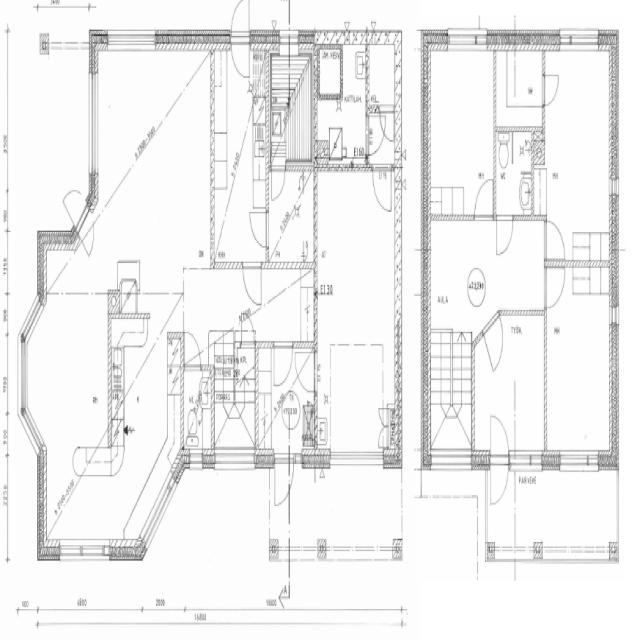door: (487, 408, 510, 511), (268, 158, 296, 238), (229, 0, 252, 84), (483, 310, 505, 374), (271, 451, 293, 511), (370, 160, 394, 214), (241, 256, 263, 309), (543, 216, 567, 264), (272, 338, 294, 390), (472, 173, 496, 220), (544, 261, 566, 309), (296, 349, 317, 398), (247, 204, 269, 249), (494, 210, 515, 256), (367, 112, 388, 157), (268, 160, 288, 203), (540, 69, 561, 107), (183, 327, 202, 364), (238, 308, 256, 346), (378, 106, 395, 146), (108, 438, 125, 475), (376, 412, 389, 448)
window: (53, 535, 113, 566), (86, 61, 100, 178), (105, 26, 158, 54), (212, 444, 258, 473), (330, 446, 383, 471), (557, 24, 601, 54), (445, 25, 490, 52), (556, 448, 600, 475), (16, 332, 30, 414), (428, 449, 473, 474), (511, 449, 544, 471)
zone: (93, 44, 213, 258), (316, 161, 397, 455), (540, 45, 614, 260), (544, 262, 614, 461), (23, 288, 112, 444), (214, 43, 270, 263), (426, 45, 496, 220), (110, 290, 182, 442), (37, 39, 93, 233), (473, 308, 544, 453), (313, 40, 368, 165), (273, 44, 314, 166), (266, 162, 314, 266), (494, 48, 544, 128), (494, 125, 532, 220), (182, 364, 214, 456), (365, 31, 401, 111), (428, 429, 472, 471), (370, 163, 394, 214), (387, 406, 400, 460), (378, 109, 395, 147)
